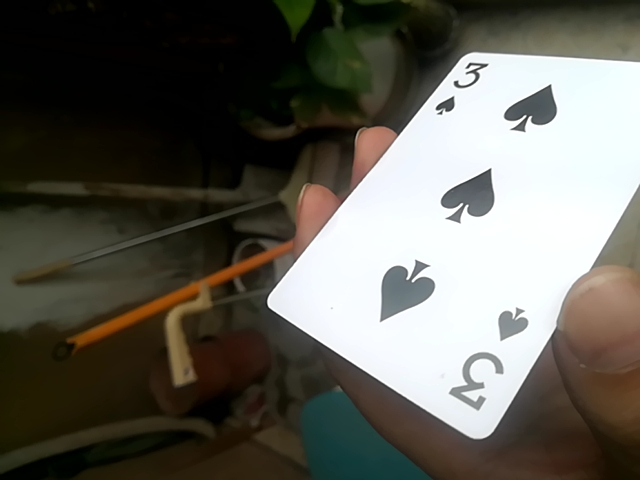ht 3: (250, 50, 640, 446)
